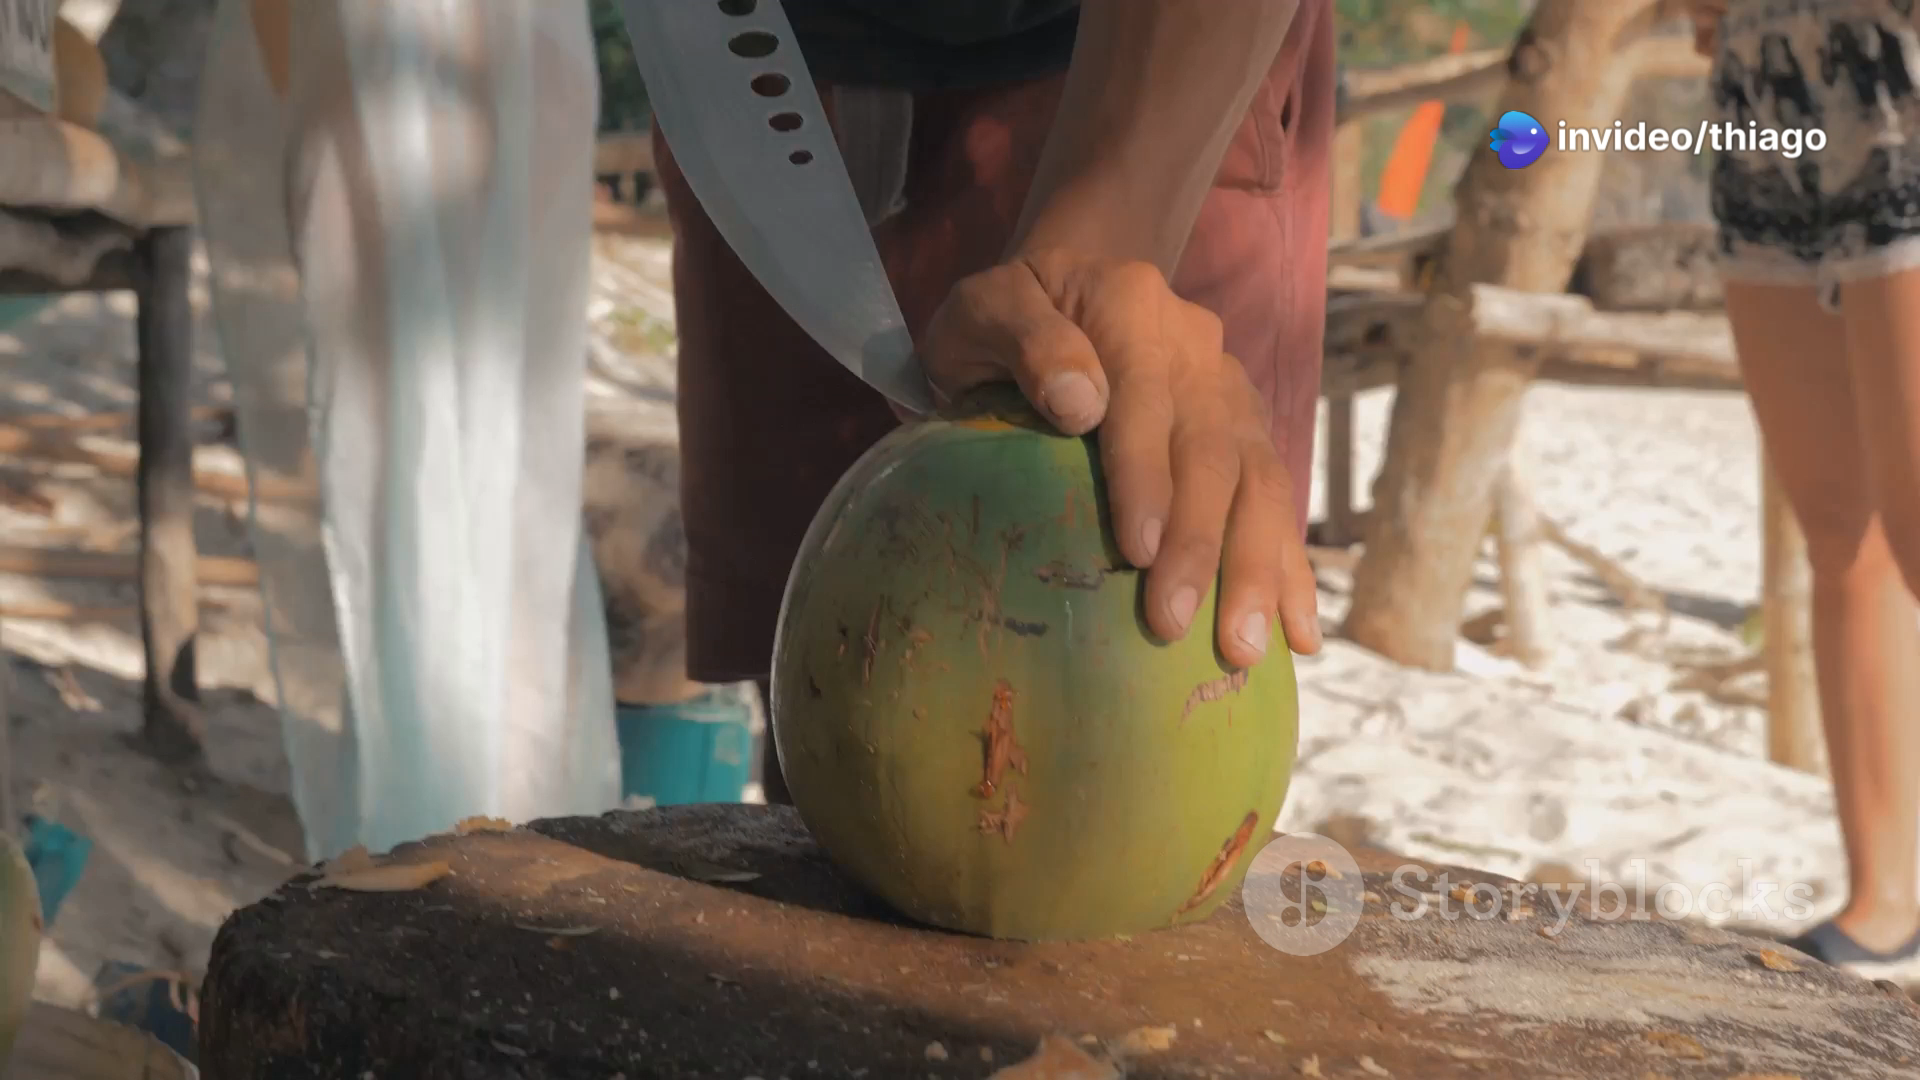cortante: (605, 0, 940, 419)
